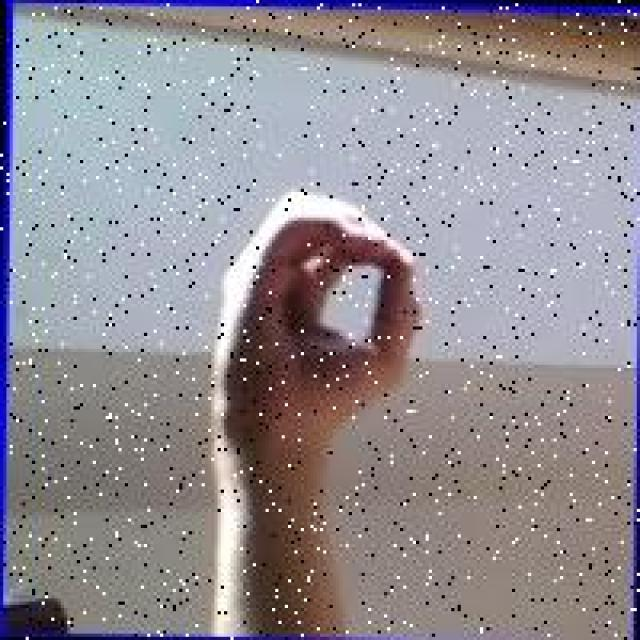O: (195, 182, 429, 464)
